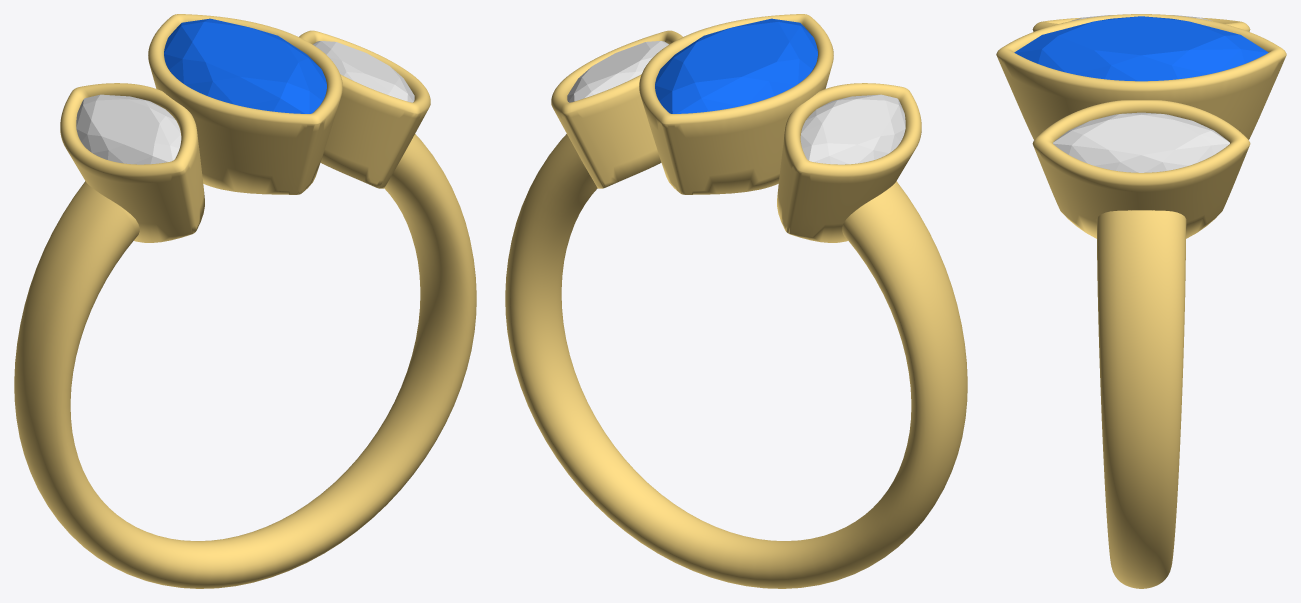
The model's file is bluesapphire-marquise-yellowgold-bezelset-taperedband-3stone.glb.
3 renders of one model, left to right at view 1: azimuth 30°, elevation 25°; view 2: azimuth 150°, elevation 25°; view 3: azimuth 270°, elevation 25°, orthographic.
Visible parts, largest first — view 1: metal.002, stone.002, side.005, side.004; view 2: metal.002, stone.002, side.005, side.004; view 3: metal.002, stone.002, side.004.
Boxes of the visible parts, box(x1,y1,x2,y2) form: metal.002: box(14, 14, 476, 588); stone.002: box(164, 18, 326, 113); side.005: box(76, 94, 181, 164); side.004: box(313, 41, 414, 102); metal.002: box(505, 14, 967, 588); stone.002: box(655, 18, 817, 113); side.005: box(800, 94, 905, 164); side.004: box(567, 41, 668, 102); metal.002: box(996, 14, 1286, 588); stone.002: box(1014, 16, 1268, 81); side.004: box(1053, 112, 1229, 172).
Size of the model in its own units: 20.09 by 22.73 by 11.31.
